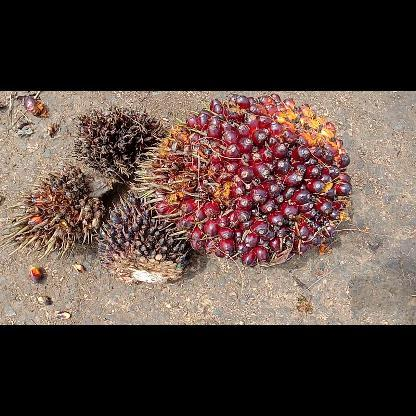TBS abnormal: (96, 187, 192, 287), (2, 166, 104, 256), (73, 106, 161, 180)
TBS masak: (130, 94, 352, 270)
